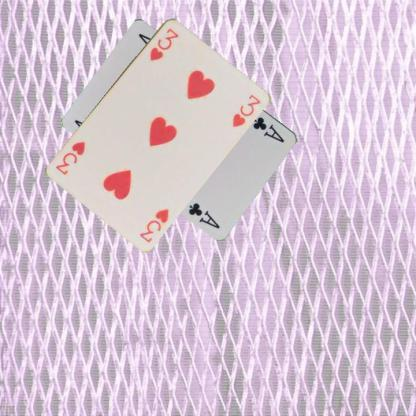3h: (137, 206, 170, 244), (147, 25, 180, 62)
Ac: (250, 114, 286, 144)
